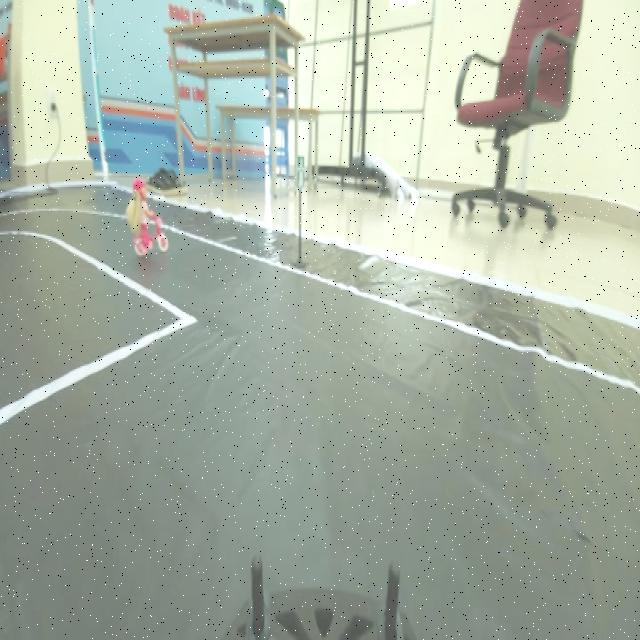pedestrian: (115, 174, 177, 268)
